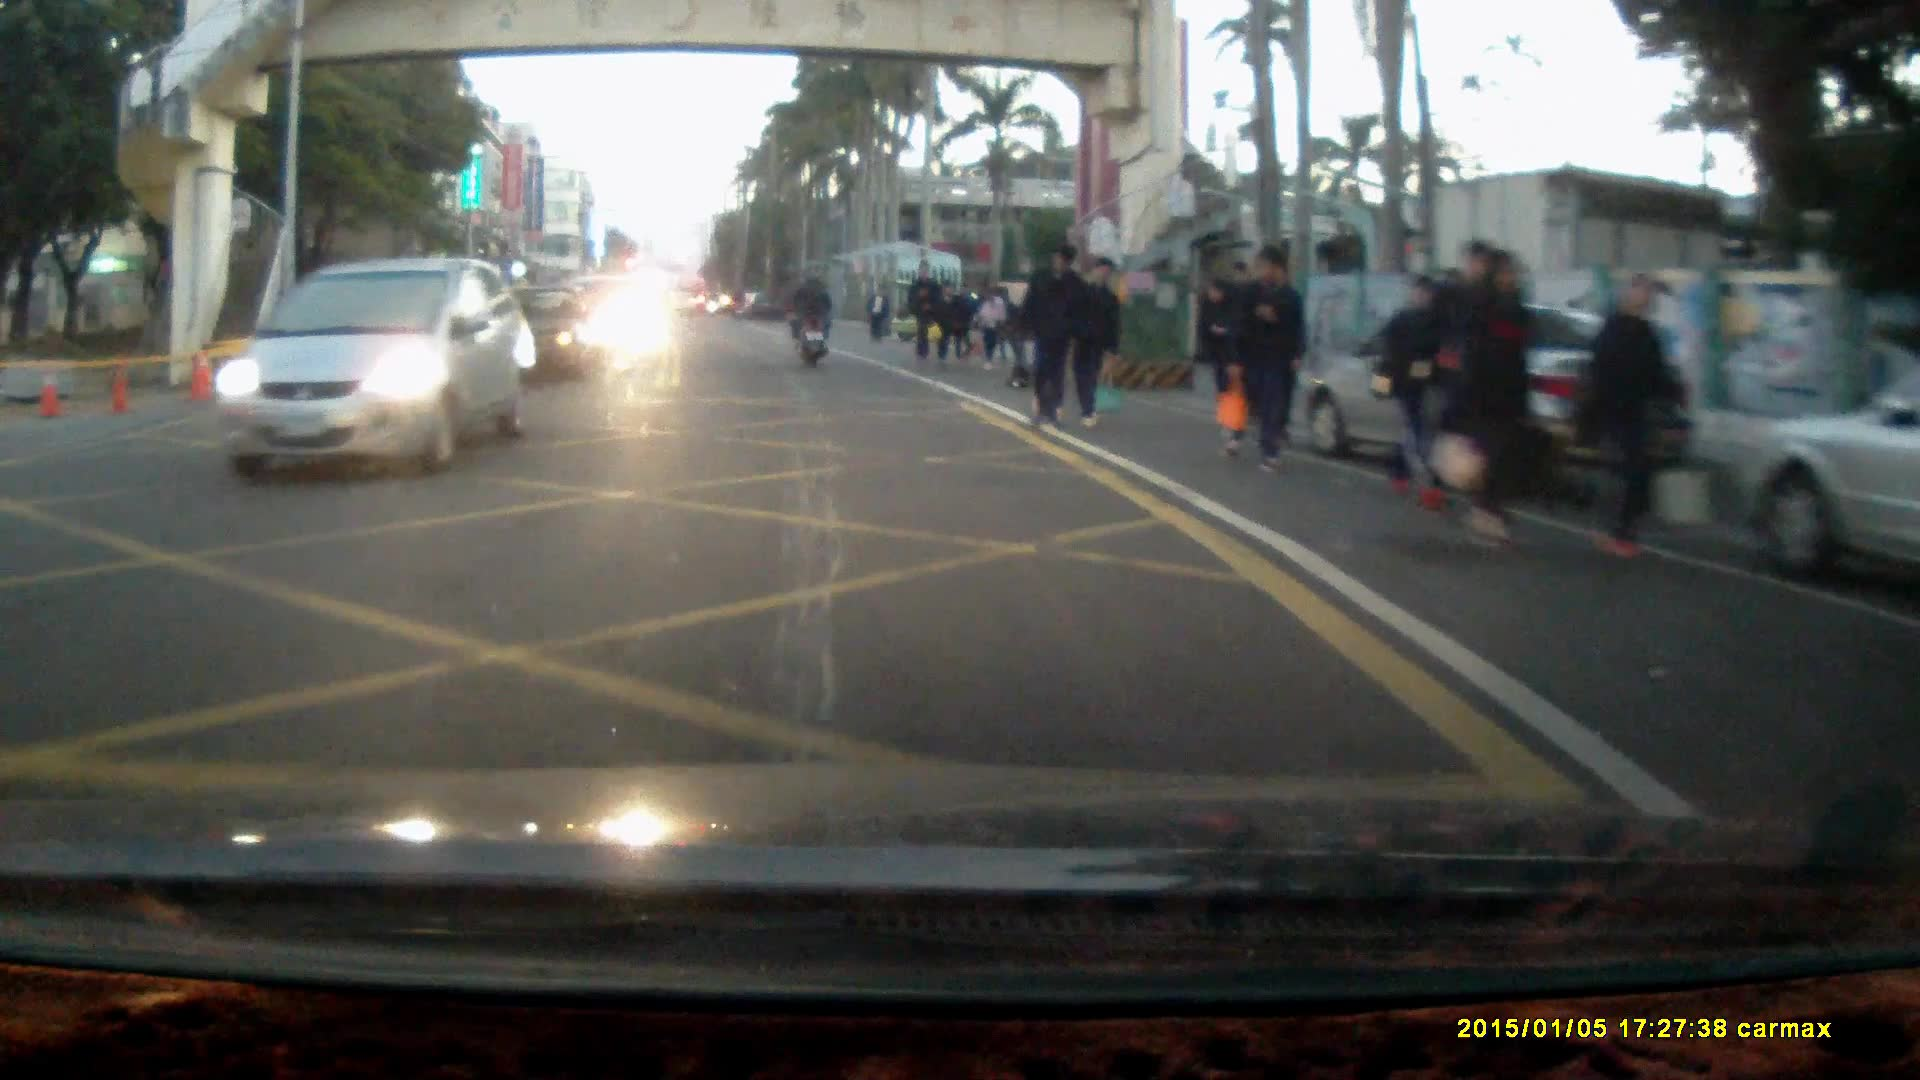pedestrian: (1581, 270, 1683, 562), (1459, 251, 1541, 564), (1421, 236, 1503, 526), (1225, 244, 1300, 475), (1384, 270, 1457, 491), (1024, 247, 1092, 434), (1075, 261, 1133, 438), (1198, 277, 1244, 432), (976, 274, 1016, 373), (905, 260, 939, 363), (930, 275, 963, 359), (866, 281, 891, 347)
rider: (789, 270, 833, 368)
vehicle: (1308, 301, 1702, 498), (205, 256, 539, 488), (1733, 372, 1920, 621), (485, 286, 603, 387)
